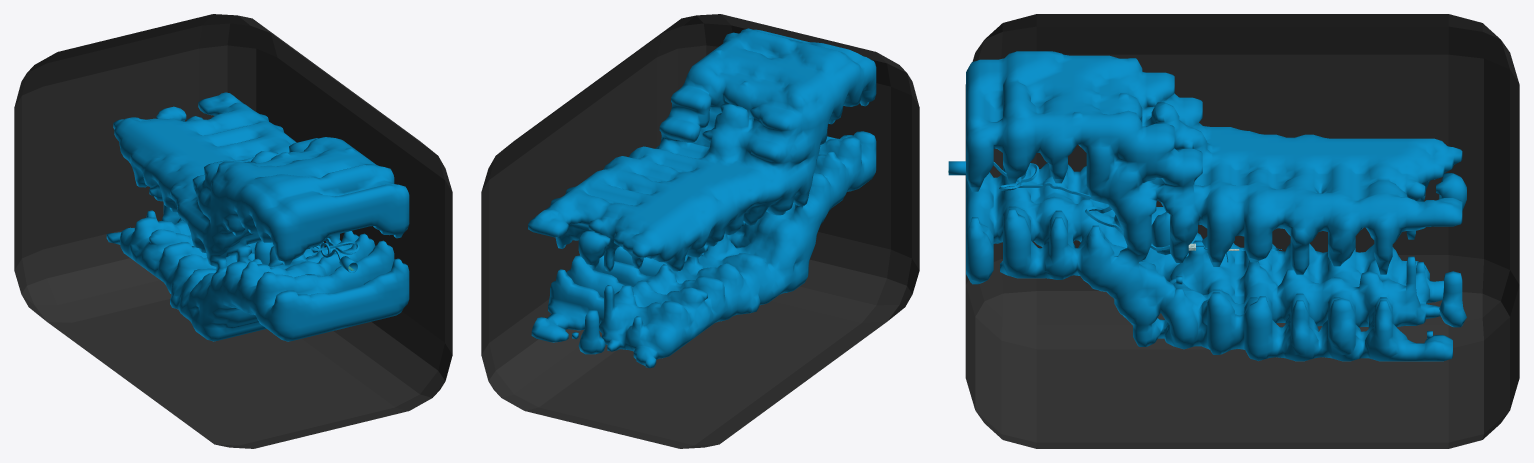
Rendered from METrack1.fbx.
3 renders of one model, left to right at view 1: azimuth 30°, elevation 25°; view 2: azimuth 150°, elevation 25°; view 3: azimuth 270°, elevation 25°, orthographic. The views are drawn at different scales.
Visible parts, largest first — view 1: Cube.010, NurbsPath, METrack1; view 2: Cube.010, NurbsPath; view 3: Cube.010, NurbsPath, METrack1.
Part boxes in pixels (left/top/right/bottom): Cube.010: left=14, top=14, right=452, bottom=448; NurbsPath: left=106, top=92, right=409, bottom=341; METrack1: left=308, top=237, right=359, bottom=260; Cube.010: left=481, top=14, right=919, bottom=448; NurbsPath: left=528, top=28, right=876, bottom=368; Cube.010: left=965, top=14, right=1519, bottom=448; NurbsPath: left=966, top=51, right=1466, bottom=361; METrack1: left=993, top=162, right=1169, bottom=250.
Size of the model in its own units: 5120 by 8061 by 5120.
